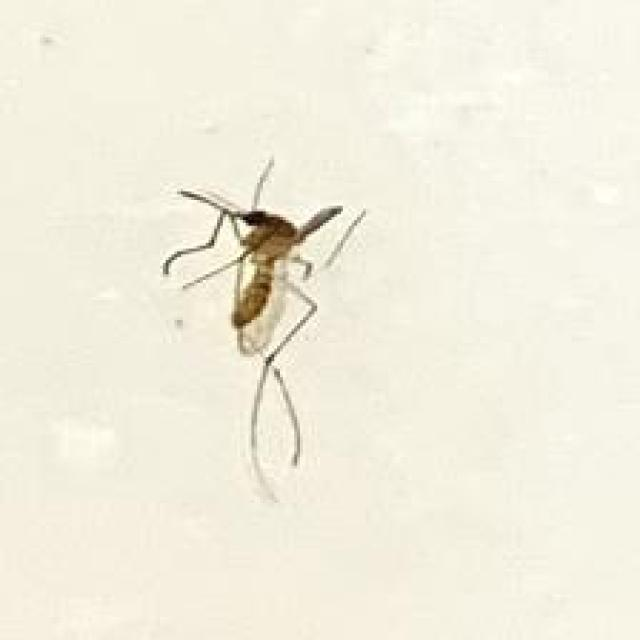Culex: (160, 154, 366, 503)
